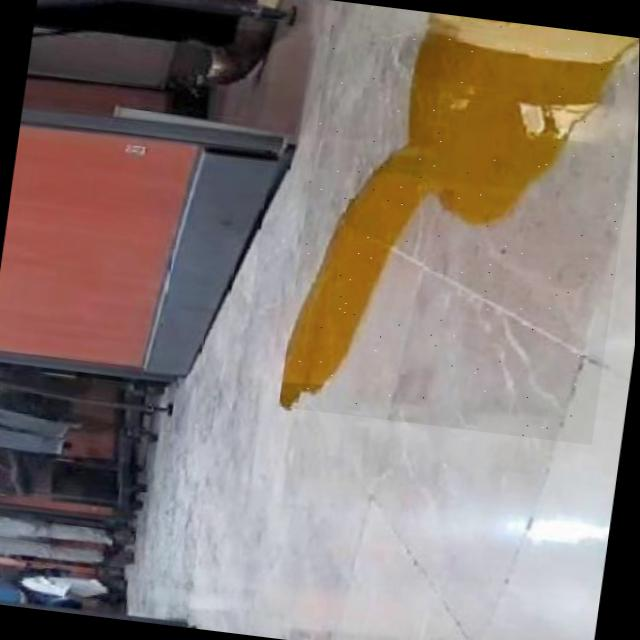spillage: (282, 11, 640, 406)
